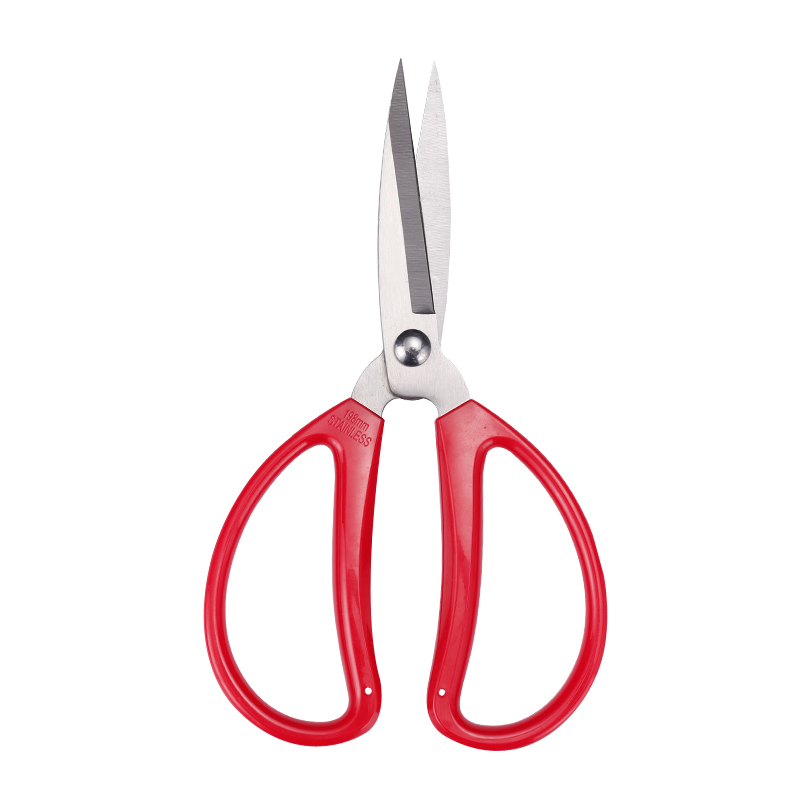scissors: (188, 47, 613, 767)
